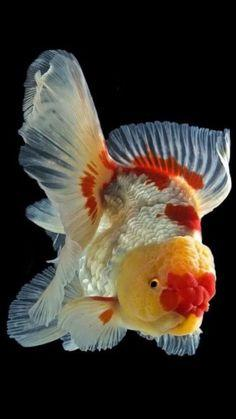goldfish: (19, 54, 224, 376)
